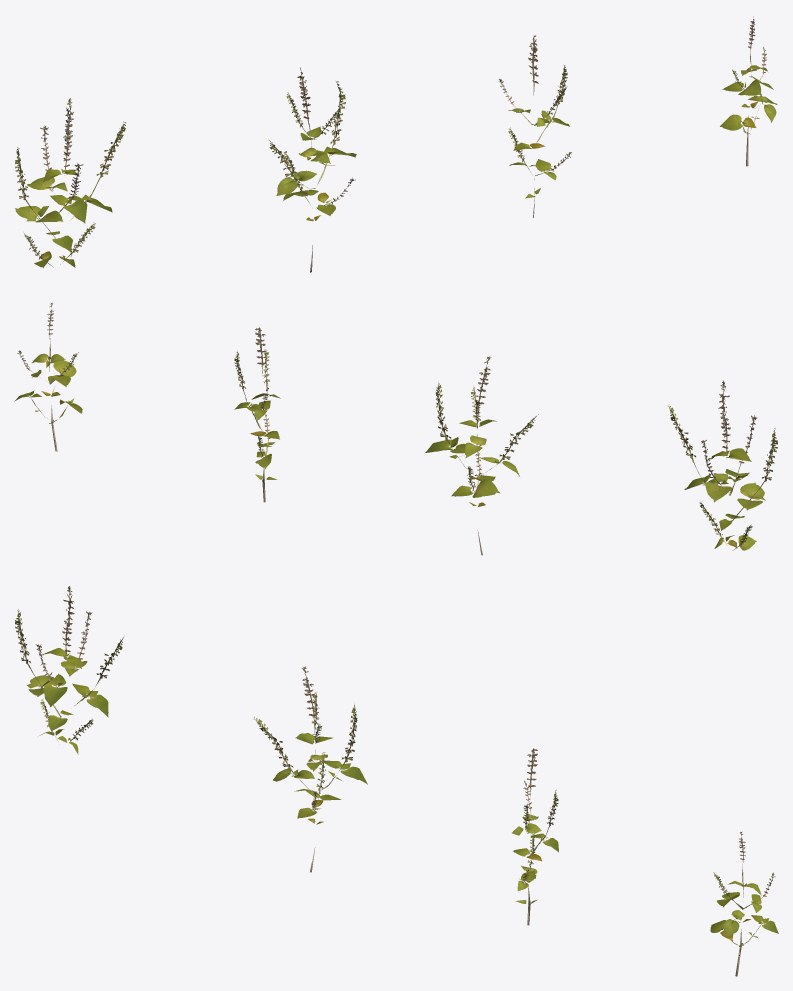
Rendered from shrub_03_lod1.glb.
3 renders of one model, top to bottom at view 1: azimuth 30°, elevation 25°; view 2: azimuth 150°, elevation 25°; view 3: azimuth 330°, elevation 25°, orthographic. The views are drawn at different scales.
Parts seen in each view (by area): view 1: shrub_03_a, shrub_03_b, shrub_03_c, shrub_03_d; view 2: shrub_03_a, shrub_03_b, shrub_03_c, shrub_03_d; view 3: shrub_03_a, shrub_03_b, shrub_03_c, shrub_03_d.
Boxes of the visible parts, x1,y1,x2,y2 form: shrub_03_a: (15,98,125,268); shrub_03_b: (269,67,356,272); shrub_03_c: (499,35,571,217); shrub_03_d: (720,16,777,166); shrub_03_a: (668,380,777,550); shrub_03_b: (425,356,538,555); shrub_03_c: (234,327,280,502); shrub_03_d: (14,302,82,451); shrub_03_a: (15,586,123,754); shrub_03_b: (253,666,367,872); shrub_03_c: (512,748,558,925); shrub_03_d: (710,831,778,976).
Size of the model in its own units: 1.37 by 0.4019 by 0.1512.
1 material, 1 textured.
